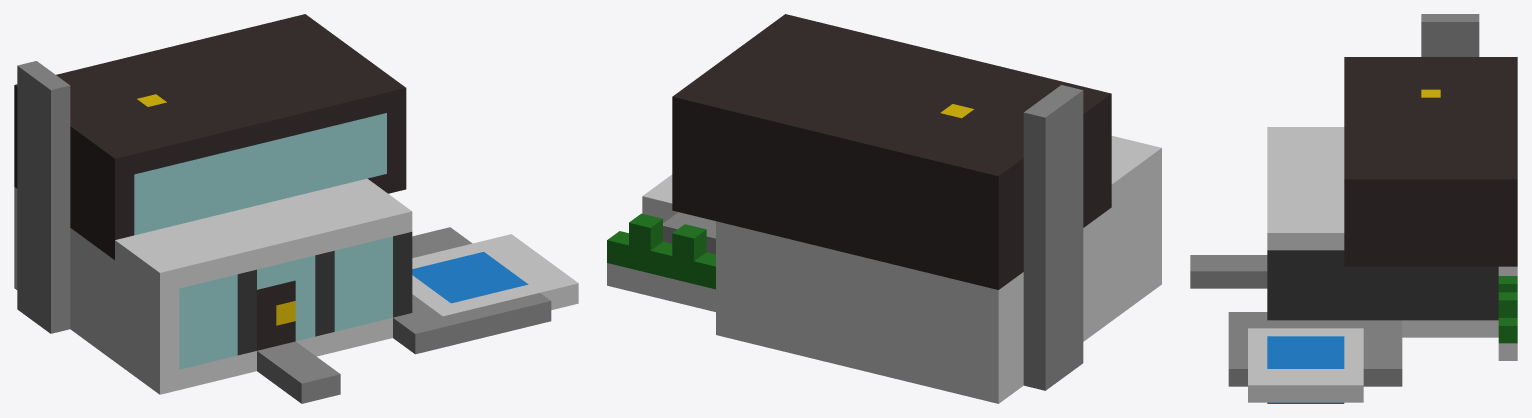
The model's file is savana.glb.
The picture shows the model from 3 angles, left to right: view 1: azimuth 30°, elevation 25°; view 2: azimuth 150°, elevation 25°; view 3: azimuth 270°, elevation 25°; orthographic projection. The views are drawn at different scales.
Size of the model in its own units: 22 by 13 by 17.
